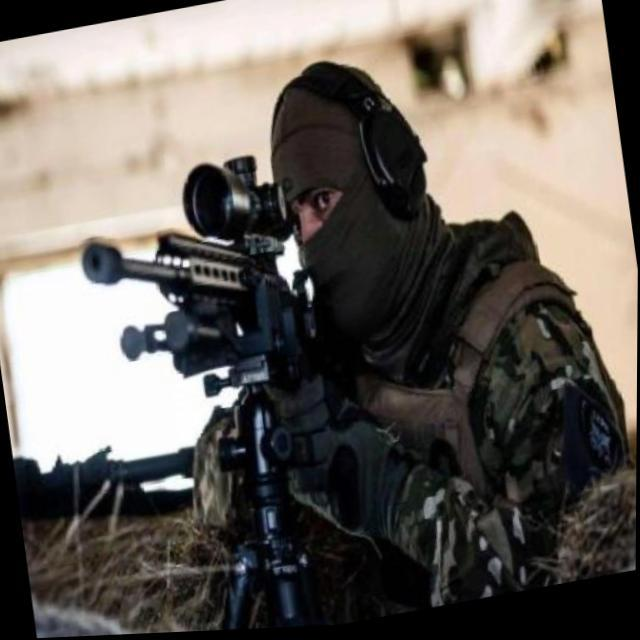weapon: (68, 140, 372, 638)
